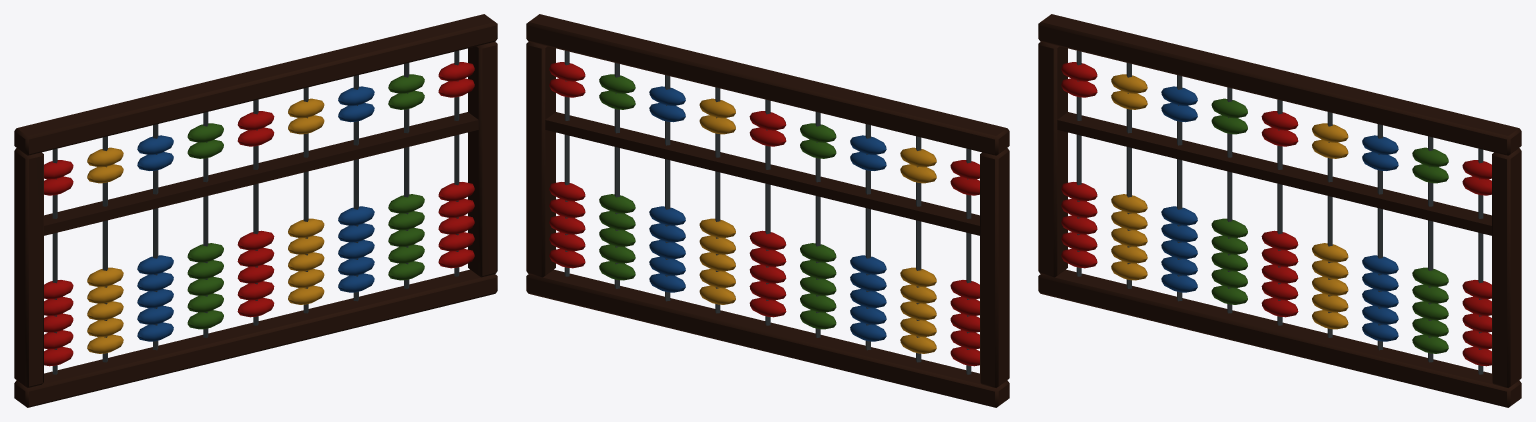
Rendered from school-abacus.glb.
3 renders of one model, left to right at view 1: azimuth 30°, elevation 25°; view 2: azimuth 150°, elevation 25°; view 3: azimuth 330°, elevation 25°, orthographic.
Parts seen in each view (by area): view 1: frame__wood, beads__lacquer, rods__steel; view 2: frame__wood, beads__lacquer, rods__steel; view 3: frame__wood, beads__lacquer, rods__steel.
Part boxes in pixels (left/top/right/bottom): frame__wood: left=14, top=14, right=497, bottom=407; beads__lacquer: left=44, top=62, right=474, bottom=366; rods__steel: left=52, top=50, right=459, bottom=374; frame__wood: left=526, top=14, right=1009, bottom=407; beads__lacquer: left=549, top=62, right=979, bottom=366; rods__steel: left=564, top=50, right=971, bottom=374; frame__wood: left=1038, top=14, right=1521, bottom=407; beads__lacquer: left=1061, top=62, right=1491, bottom=366; rods__steel: left=1076, top=50, right=1483, bottom=374.
Bounding box in the file's own units: 0.4 × 0.22 × 0.02.
